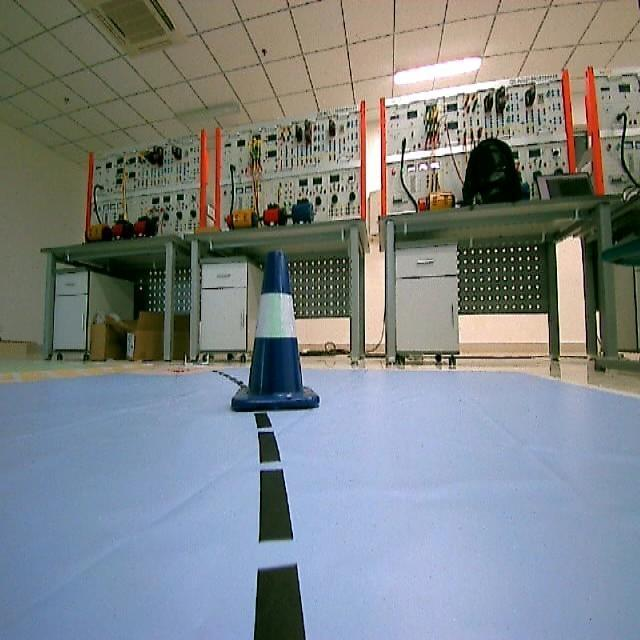obstacle: (222, 237, 340, 425)
